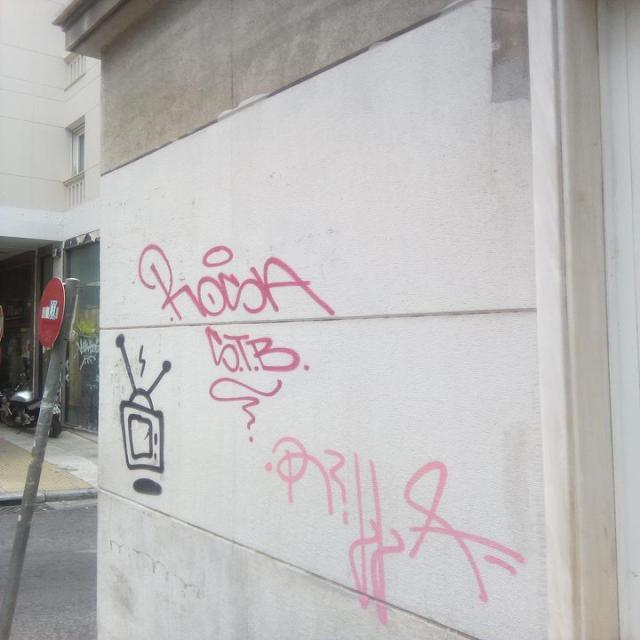nonspitting: (267, 436, 526, 624), (138, 244, 338, 322), (207, 327, 310, 442), (116, 333, 172, 494)
